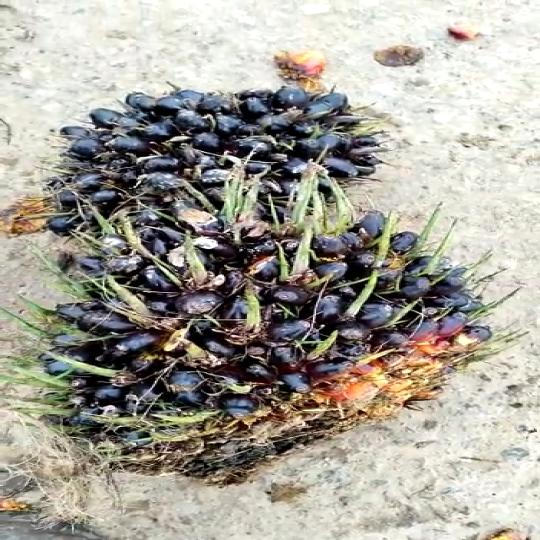mentah: (56, 202, 465, 480), (43, 83, 381, 223)
